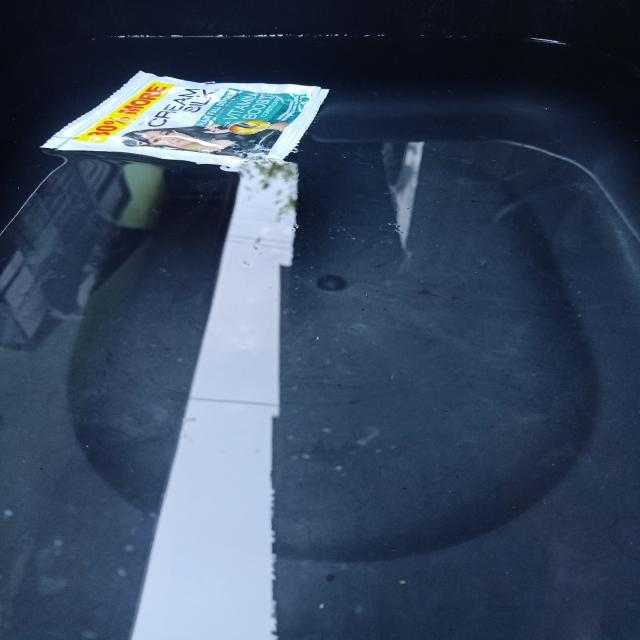Plastic Wrapper: (42, 72, 329, 172)
